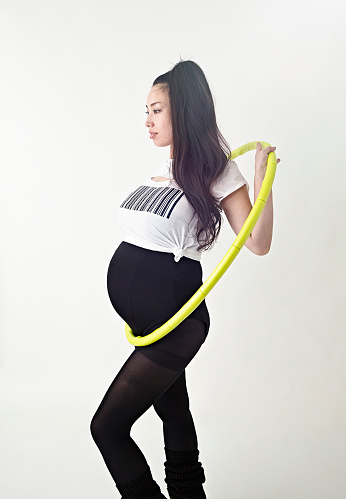em pe: (62, 61, 251, 498)
